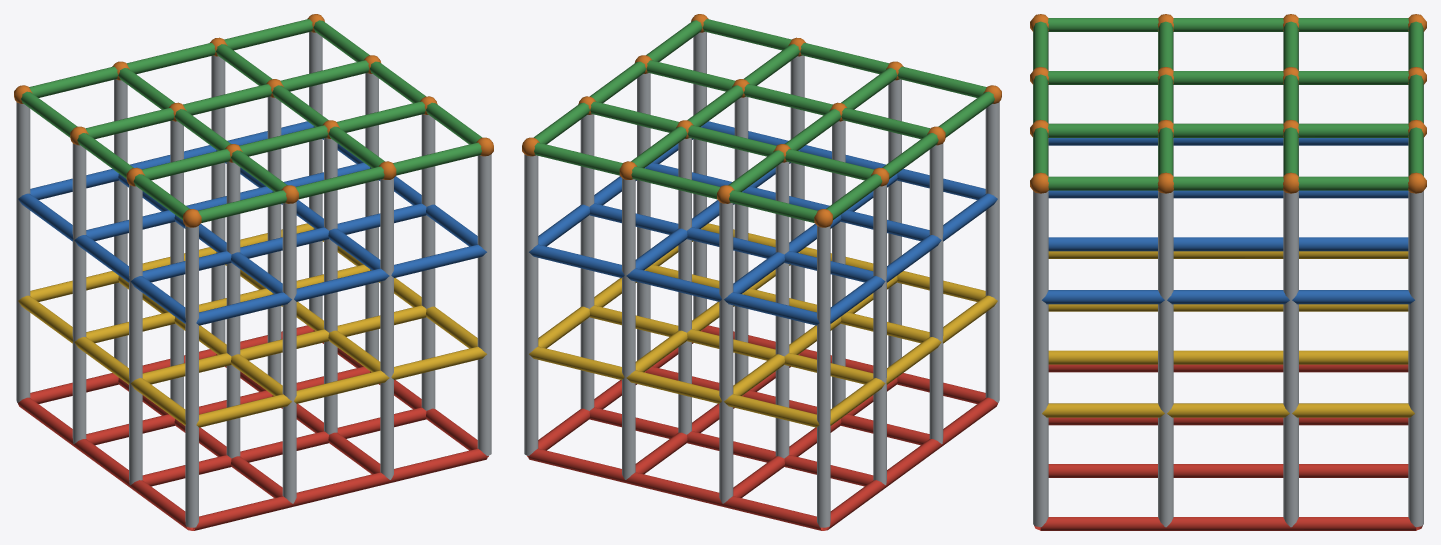
File: Park_JungleGym.fbx
The picture shows the model from 3 angles, left to right: view 1: azimuth 30°, elevation 25°; view 2: azimuth 150°, elevation 25°; view 3: azimuth 270°, elevation 25°; orthographic projection. The views are drawn at different scales.
Parts seen in each view (by area): view 1: Park_JungleGym; view 2: Park_JungleGym; view 3: Park_JungleGym.
Boxes of the visible parts, x1,y1,x2,y2 form: Park_JungleGym: (14,14,493,530); Park_JungleGym: (522,14,1001,530); Park_JungleGym: (1030,14,1426,530).
Bounding box in the file's own units: 12.68 × 12.6 × 12.68.
